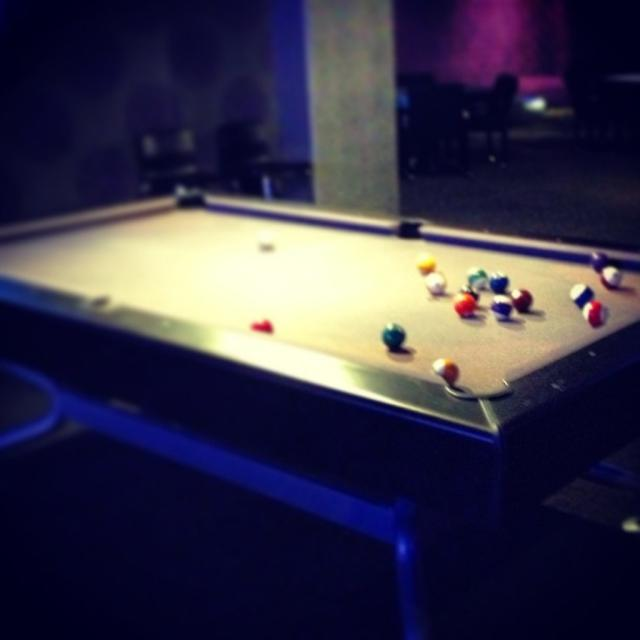Ball: (415, 250, 623, 324), (430, 359, 462, 388), (380, 322, 409, 349), (249, 318, 275, 333), (259, 233, 275, 251)
Billiard table: (0, 180, 640, 640)
